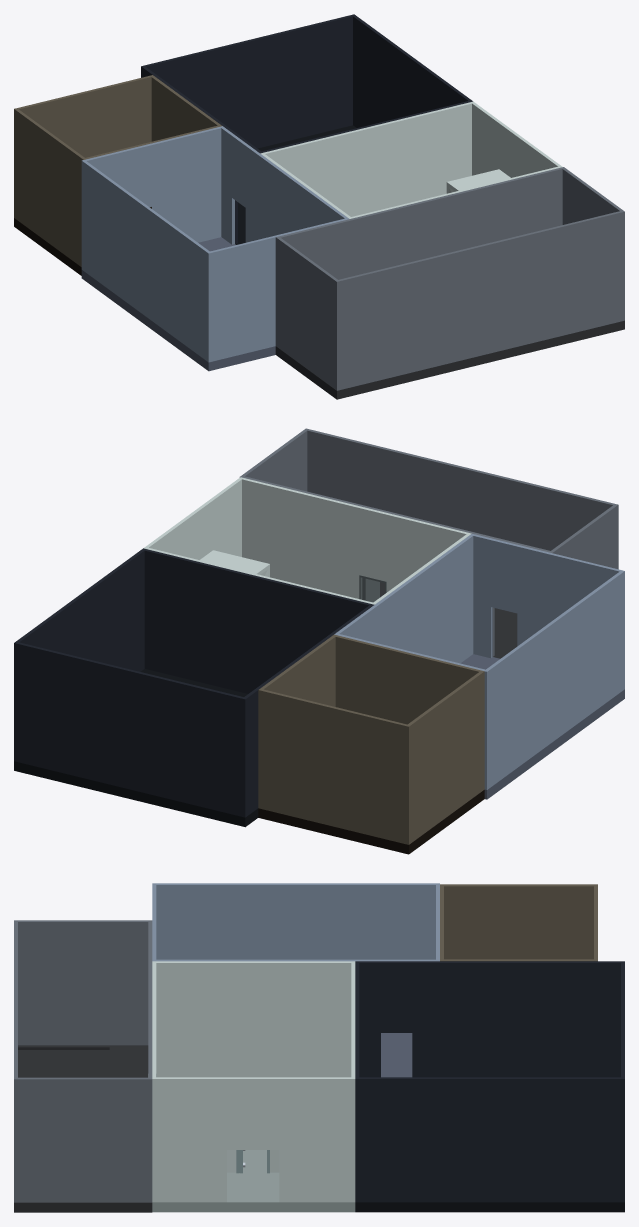
File: lab_future - Copy.fbx
3 renders of one model, top to bottom at view 1: azimuth 30°, elevation 25°; view 2: azimuth 150°, elevation 25°; view 3: azimuth 270°, elevation 25°, orthographic. The views are drawn at different scales.
Parts seen in each view (by area): view 1: engine room wall (i), portal room wall (i).003, engine room wall 2, main hall wall (i).001, tutorial room wall (i) 2, tutorial room wall (i).001, tutorial room wall (i), old archive wall (i).002, tutorial room wall (i) 2.001, old archive wall (i), portal room wall (i), engine room wall 3.001 (+8 smaller); view 2: portal room wall (i).003, portal room wall (i).002, old archive wall (i), engine room wall (i), tutorial room wall (i) 2, main hall wall (i), tutorial room wall (i), tutorial room wall (i) 2.001, old archive wall (i).002, portal room wall (i), old archive wall (i).001, main hall wall (i).003 (+11 smaller); view 3: portal room wall (i), portal room wall (i).001, main hall wall (i).002, main hall wall (i).003, tutorial room wall (i) 2, engine room wall 3, engine room wall 3.001, old archive wall (i).002, engine room floor, main hall floor, portal room floor, tutorial room floor (+7 smaller).
Part boxes in pixels (<box>): engine room wall (i): <box>335,210,624,390</box>; portal room wall (i).003: <box>144,15,352,148</box>; engine room wall 2: <box>275,167,565,346</box>; main hall wall (i).001: <box>260,101,474,216</box>; tutorial room wall (i) 2: <box>83,161,209,360</box>; tutorial room wall (i).001: <box>81,126,223,270</box>; tutorial room wall (i): <box>207,218,349,362</box>; old archive wall (i).002: <box>15,109,84,266</box>; tutorial room wall (i) 2.001: <box>221,127,347,244</box>; old archive wall (i): <box>14,75,153,218</box>; portal room wall (i): <box>351,14,472,127</box>; engine room wall 3.001: <box>277,238,337,389</box>; portal room wall (i).003: <box>17,642,243,816</box>; portal room wall (i).002: <box>144,549,370,693</box>; old archive wall (i): <box>258,688,410,844</box>; engine room wall (i): <box>304,428,618,569</box>; tutorial room wall (i) 2: <box>486,571,622,788</box>; main hall wall (i): <box>239,477,471,598</box>; tutorial room wall (i): <box>470,533,624,690</box>; tutorial room wall (i) 2.001: <box>336,535,473,663</box>; old archive wall (i).002: <box>408,672,482,843</box>; portal room wall (i): <box>14,548,146,761</box>; old archive wall (i).001: <box>332,634,484,790</box>; main hall wall (i).003: <box>145,478,269,577</box>; portal room wall (i): <box>355,1077,624,1202</box>; portal room wall (i).001: <box>355,961,624,1077</box>; main hall wall (i).002: <box>156,961,351,1077</box>; main hall wall (i).003: <box>156,1077,351,1202</box>; tutorial room wall (i) 2: <box>156,883,435,959</box>; engine room wall 3: <box>18,1077,148,1202</box>; engine room wall 3.001: <box>18,920,148,1045</box>; old archive wall (i).002: <box>444,884,593,959</box>; engine room floor: <box>14,1045,152,1212</box>; main hall floor: <box>152,1150,355,1212</box>; portal room floor: <box>355,1202,624,1212</box>; tutorial room floor: <box>381,1033,412,1077</box>.
Size of the model in its own units: 8413 by 2666 by 11074.
